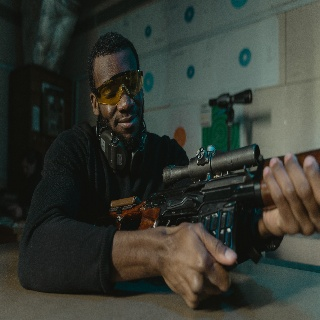rifle: (107, 142, 320, 271)
